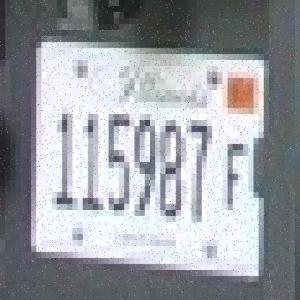Plate: (32, 46, 270, 264)
